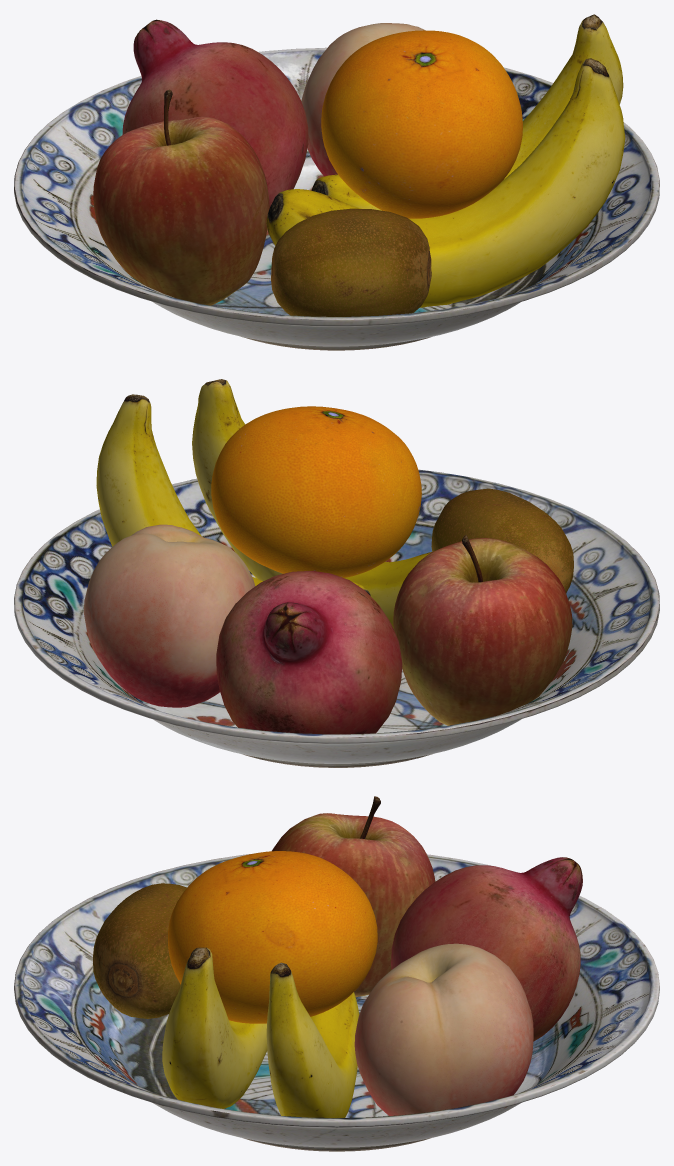
The picture shows the model from 3 angles, top to bottom: view 1: azimuth 30°, elevation 25°; view 2: azimuth 150°, elevation 25°; view 3: azimuth 270°, elevation 25°; orthographic projection.
Parts seen in each view (by area): view 1: Circle, Mandarin Orange, Apple, Banana, Pomegranate, Kiwi, Banana.001, Peach; view 2: Circle, Mandarin Orange, Apple, Pomegranate, Peach, Banana.001, Kiwi, Banana; view 3: Circle, Mandarin Orange, Peach, Pomegranate, Apple, Banana.001, Banana, Kiwi.
Part boxes in pixels (x1,y1,x2,y2): Circle: (14,47,659,350); Mandarin Orange: (321,30,522,218); Apple: (93,89,269,305); Banana: (266,58,625,307); Pomegranate: (122,19,308,207); Kiwi: (271,208,431,316); Banana.001: (311,14,623,210); Peach: (301,23,425,176); Circle: (14,469,659,767); Mandarin Orange: (211,406,421,577); Apple: (393,534,572,725); Pomegranate: (216,571,402,734); Peach: (84,524,255,707); Banana.001: (96,394,370,595); Kiwi: (431,488,573,593); Banana: (192,379,433,628); Circle: (14,854,659,1151); Mandarin Orange: (168,851,377,1023); Peach: (354,943,533,1115); Pomegranate: (391,857,582,1041); Apple: (272,796,435,996); Banana.001: (266,962,359,1117); Banana: (162,947,267,1108); Kiwi: (93,883,186,1018).
Bounding box in the file's own units: 0.2522 × 0.1079 × 0.2522.
Materials: 8 (8 with a texture image).
